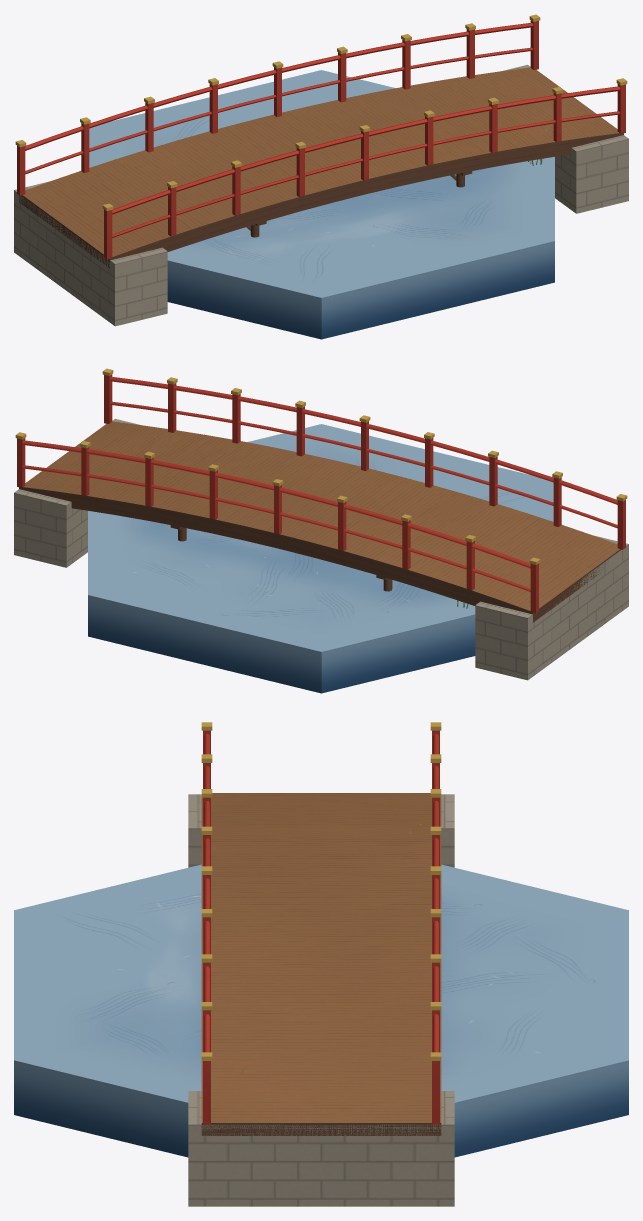
Rendered from Hex_Bridge.glb.
3 views of the same model, one above another, from view 1: azimuth 30°, elevation 25°; view 2: azimuth 150°, elevation 25°; view 3: azimuth 270°, elevation 25° (orthographic). The views are drawn at different scales.
Visible parts, largest first — view 1: Hex_Bridge; view 2: Hex_Bridge; view 3: Hex_Bridge.
Boxes of the visible parts, x1,y1,x2,y2 form: Hex_Bridge: (14, 14, 628, 339); Hex_Bridge: (14, 368, 628, 693); Hex_Bridge: (14, 722, 628, 1206).
Size of the model in its own units: 8.92 by 2.15 by 6.93.
2 materials, 2 textured.
